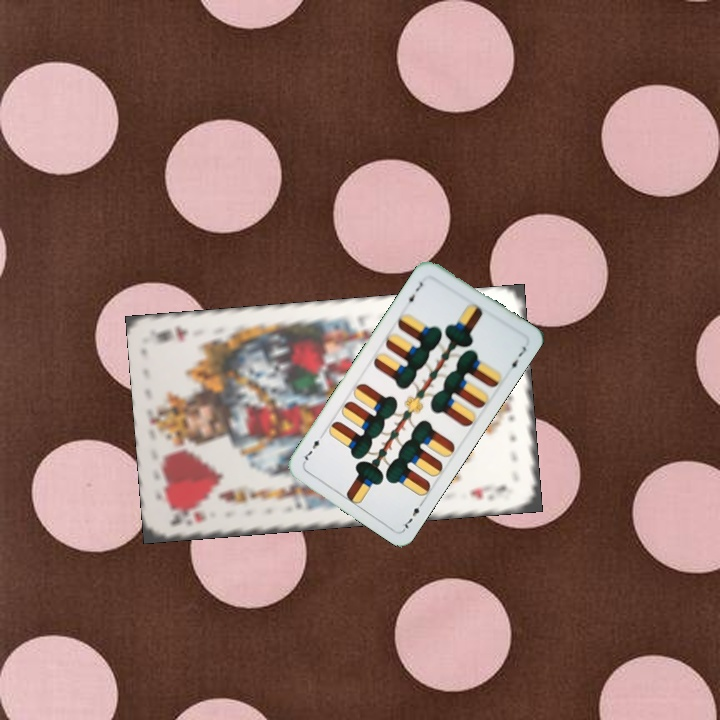E7: (399, 496, 427, 532), (402, 278, 426, 307)
HK: (166, 503, 210, 529)
